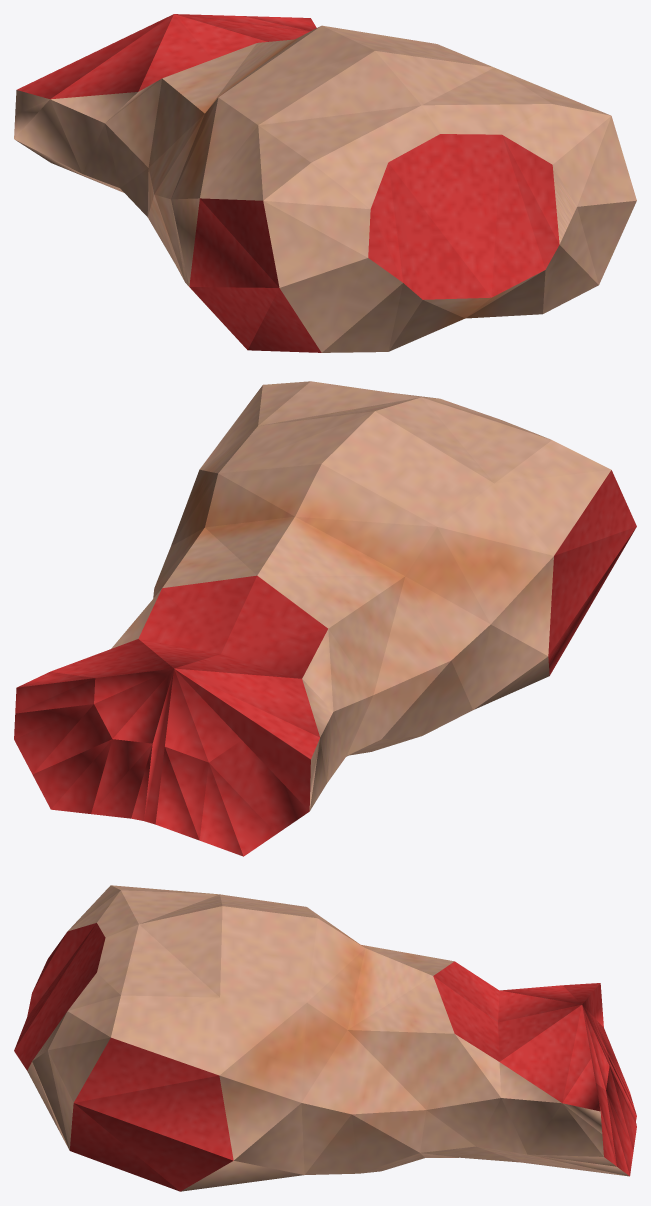
The model's file is g_torso.fbx.
3 renders of one model, top to bottom at view 1: azimuth 30°, elevation 25°; view 2: azimuth 150°, elevation 25°; view 3: azimuth 270°, elevation 25°, orthographic. The views are drawn at different scales.
Visible parts, largest first — view 1: torso; view 2: torso; view 3: torso.
Boxes of the visible parts, x1=… form: torso: x1=14, y1=14, x2=636, y2=352; torso: x1=14, y1=381, x2=636, y2=856; torso: x1=14, y1=885, x2=636, y2=1191.
Bounding box in the file's own units: 0.4679 × 0.7855 × 0.3201.
Materials: 1 (1 with a texture image).
